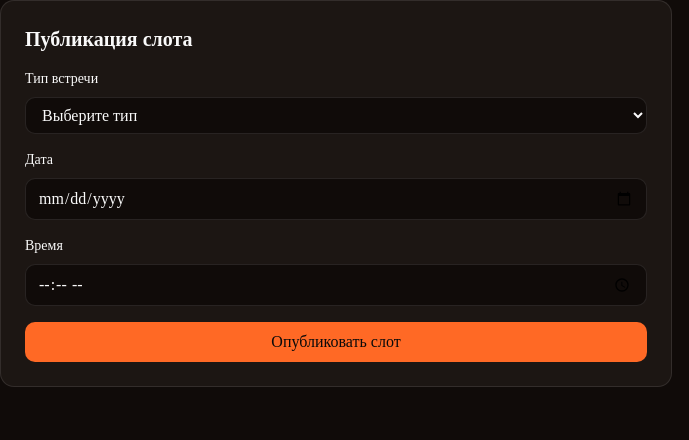
Test case: admin page publishes slots › shows a server rejection message on 400/404
Select "Созвон, 30 мин." in the dropdown labelled "Тип встречи" at coordinates (336, 116), box [25, 97, 647, 134]
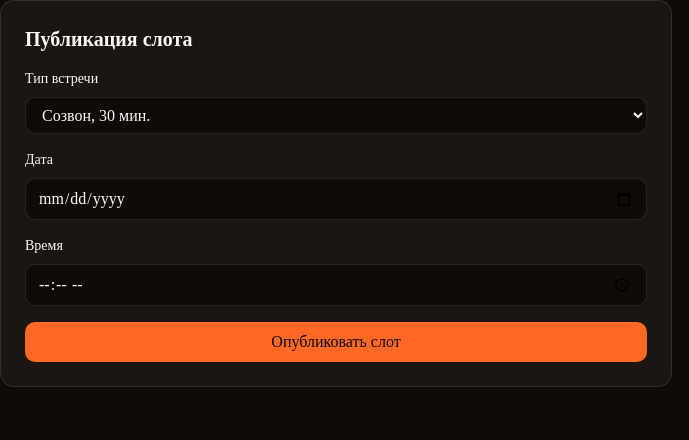
Type "2026-11-15" into the date field labelled "Дата" at coordinates (336, 199), box [25, 178, 647, 220]
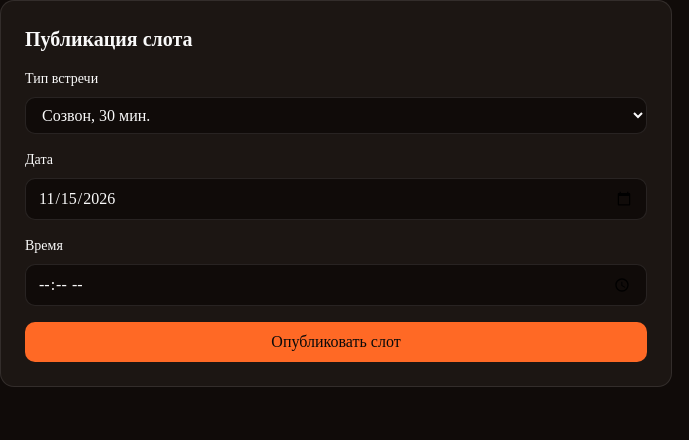
Type "10:00" into the time field labelled "Время" at coordinates (336, 285), box [25, 264, 647, 306]
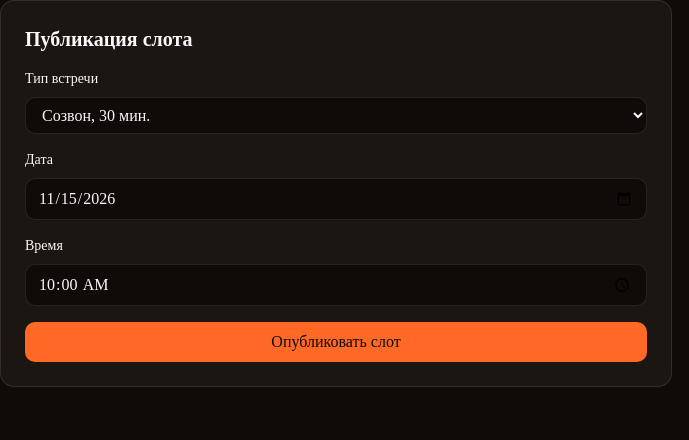
Click the button "Опубликовать слот" at coordinates (336, 342), box [25, 322, 647, 362]
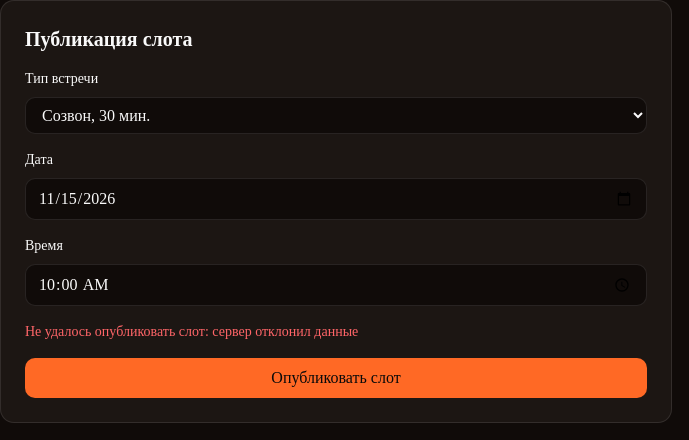
Expected: the message shows "Не удалось опубликовать слот", [25, 324, 358, 339]
